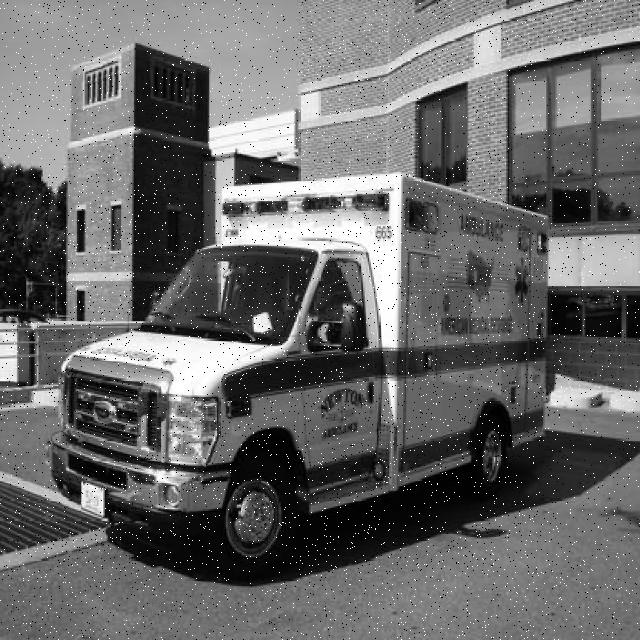Ambulance: (46, 174, 555, 574)
